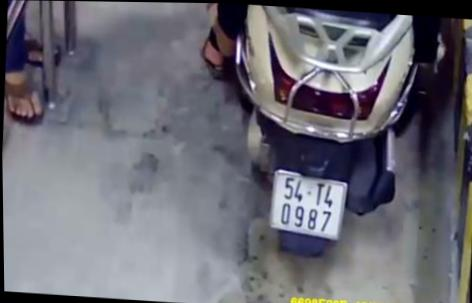LP: (267, 167, 349, 240)
